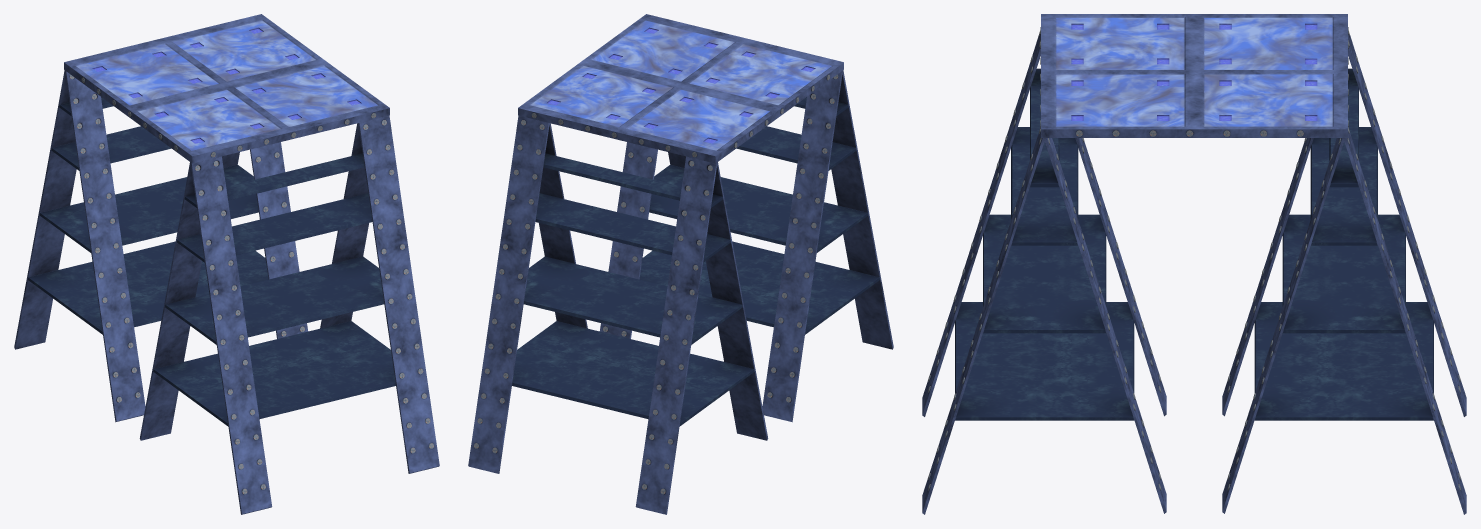
The picture shows the model from 3 angles, left to right: view 1: azimuth 30°, elevation 25°; view 2: azimuth 150°, elevation 25°; view 3: azimuth 270°, elevation 25°; orthographic projection. The views are drawn at different scales.
Visible parts, largest first — view 1: Support, Base, ScrewDiagonal.001; view 2: Support, Base, ScrewDiagonal; view 3: Support, Base, ScrewDiagonal.001, ScrewDiagonal.
Part boxes in pixels (<box>): Support: <box>14,70,439,514</box>; Base: <box>64,14,389,163</box>; ScrewDiagonal.001: <box>69,74,433,494</box>; Support: <box>468,70,893,514</box>; Base: <box>518,14,843,163</box>; ScrewDiagonal: <box>474,74,838,494</box>; Support: <box>922,34,1466,514</box>; Base: <box>1041,14,1347,137</box>; ScrewDiagonal.001: <box>928,31,1340,490</box>; ScrewDiagonal: <box>1048,31,1460,490</box>.
Size of the model in its own units: 536 by 830 by 1062.
4 materials, 4 textured.
